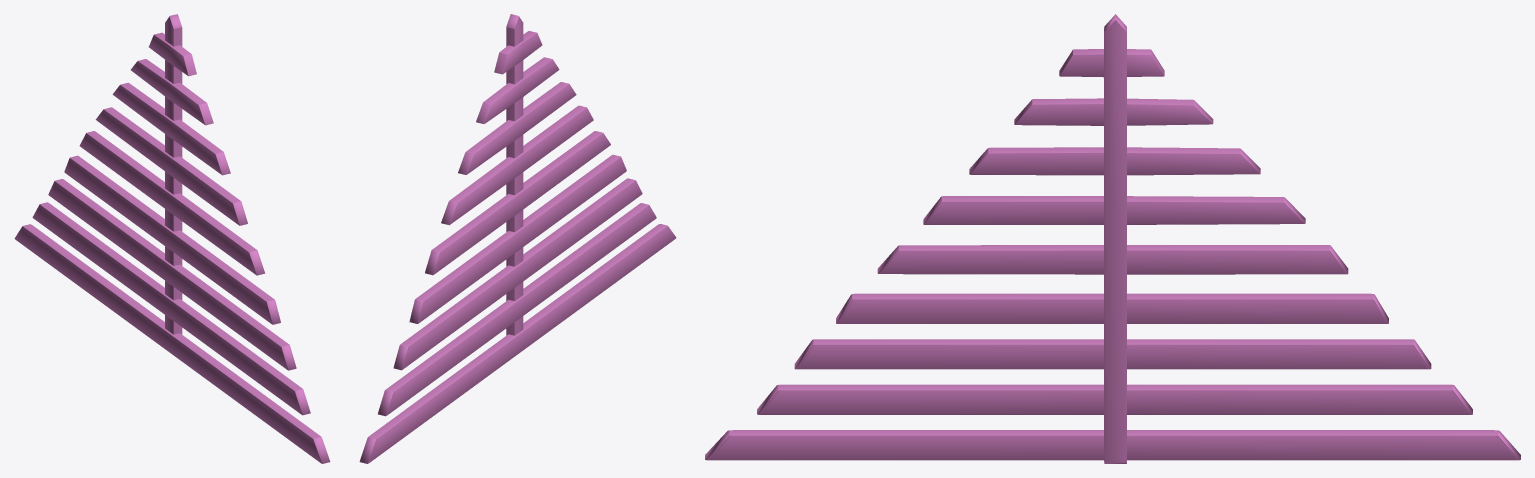
The model's file is RoofSide3on1.fbx.
3 renders of one model, left to right at view 1: azimuth 30°, elevation 25°; view 2: azimuth 150°, elevation 25°; view 3: azimuth 270°, elevation 25°, orthographic. The views are drawn at different scales.
Parts seen in each view (by area): view 1: RoofSide001; view 2: RoofSide001; view 3: RoofSide001.
Part boxes in pixels (x1=…): RoofSide001: x1=14, y1=14, x2=330, y2=463; RoofSide001: x1=359, y1=14, x2=676, y2=463; RoofSide001: x1=705, y1=14, x2=1520, y2=463.
Bounding box in the file's own units: 2.73 × 80.7 × 134.
